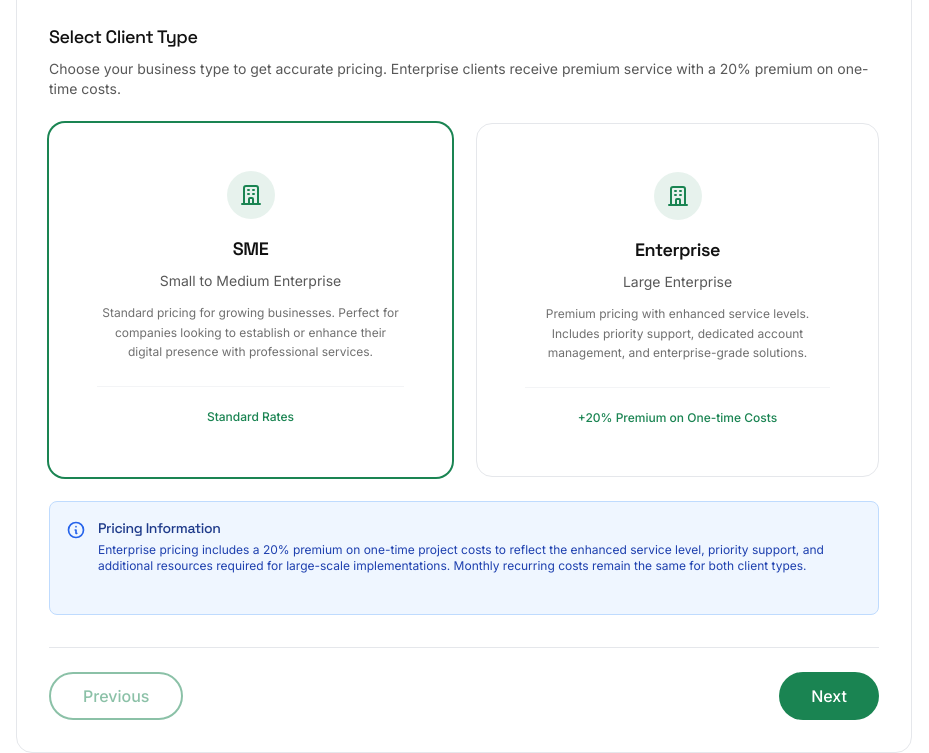
Test: PricingCalculator UI Components › Summary and Export Functionality › should show complete button on final step
This screenshot has width=929, height=753.
(page scrolled)
Step 1. Click the button "Next" → coordinates (829, 696), box [779, 672, 879, 720]
(page scrolled)
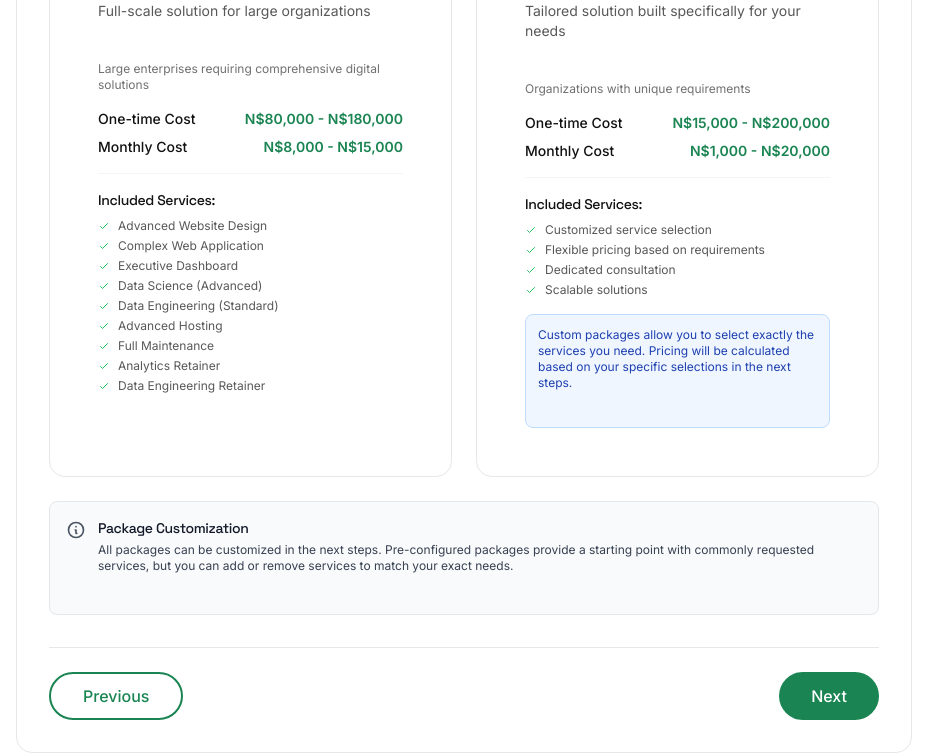
Step 2. Click the button "Next" → coordinates (829, 696), box [779, 672, 879, 720]
(page scrolled)
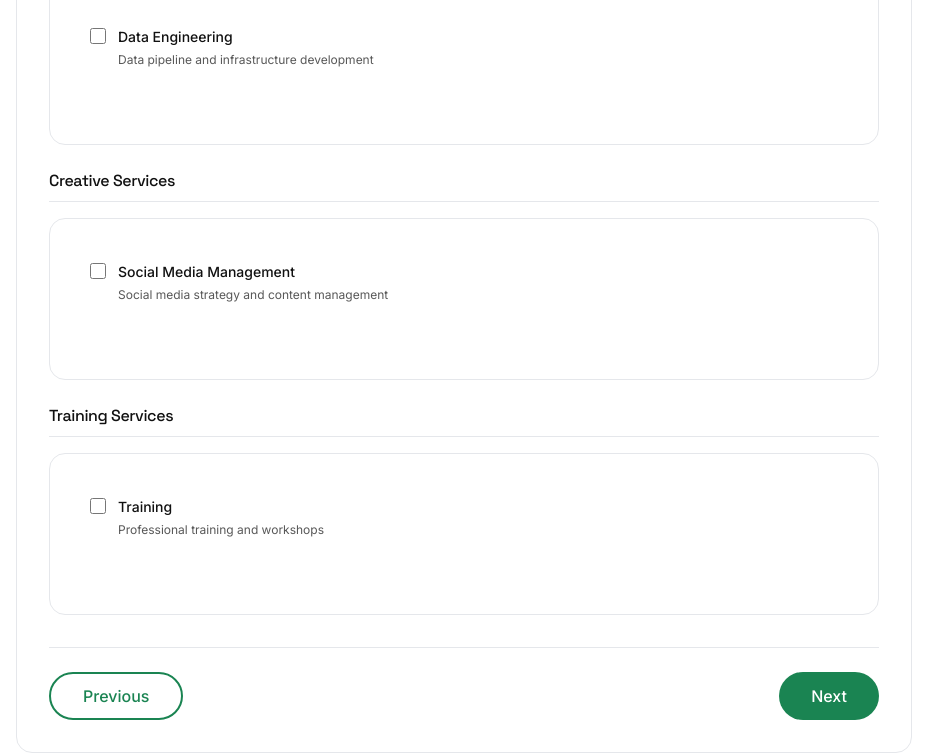
Step 3. Click the button "Next" → coordinates (829, 696), box [779, 672, 879, 720]
(page scrolled)
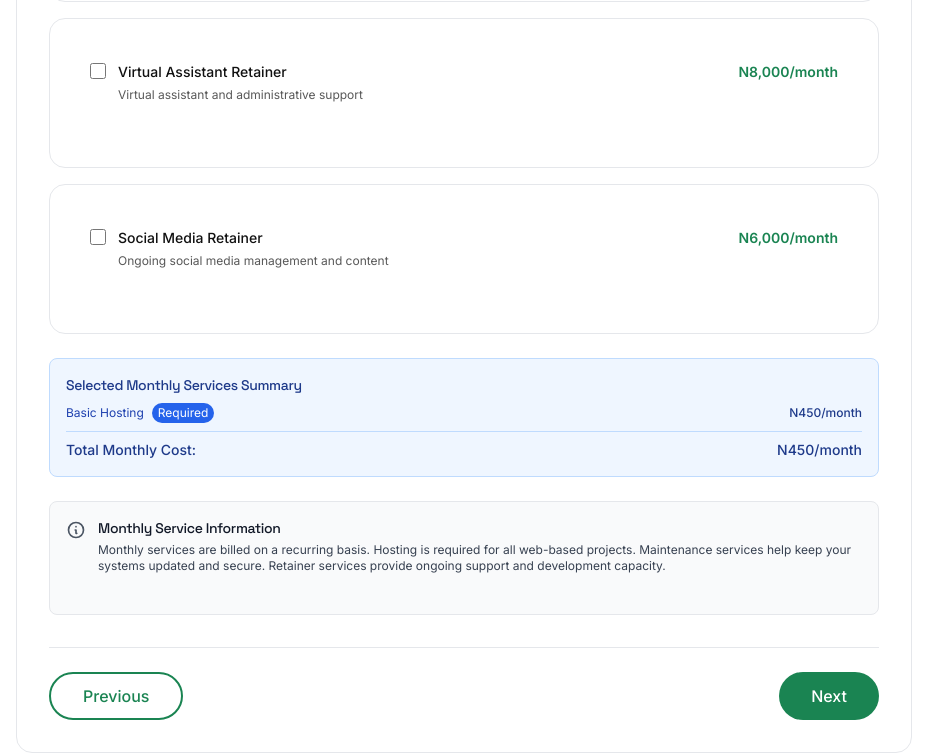
Step 4. Click the button "Next" → coordinates (829, 696), box [779, 672, 879, 720]
(page scrolled)
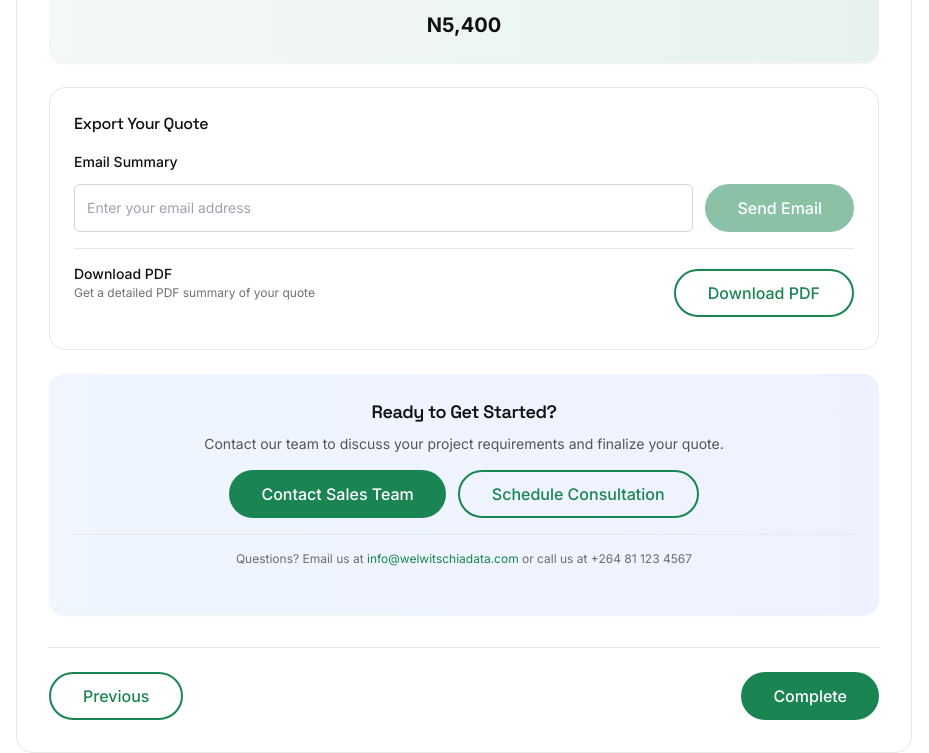
Expected: the button "Complete" is shown, [741, 672, 879, 720]
Expected: the button "Next" is gone
